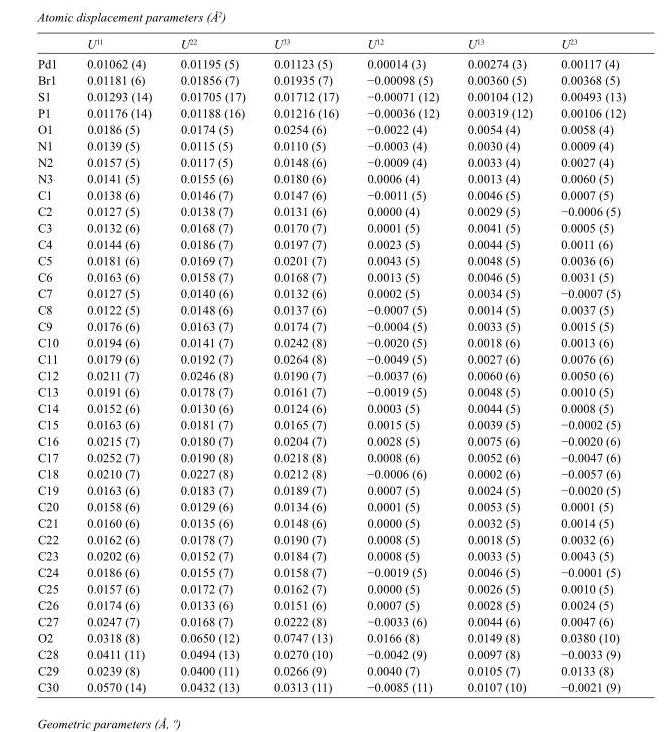table: (36, 36, 625, 693)
table column: (352, 36, 452, 693), (258, 36, 352, 693), (452, 36, 546, 693), (72, 36, 165, 693), (165, 36, 258, 693), (546, 36, 625, 693), (36, 36, 72, 693)
table column header: (36, 36, 625, 53)
table row: (36, 53, 625, 71), (36, 36, 625, 53), (36, 71, 625, 88), (36, 120, 625, 137), (36, 153, 625, 170), (36, 186, 625, 203), (36, 235, 625, 252), (36, 268, 625, 285), (36, 317, 625, 334), (36, 350, 625, 367), (36, 399, 625, 416), (36, 432, 625, 449), (36, 481, 625, 498), (36, 514, 625, 531), (36, 563, 625, 580), (36, 596, 625, 613), (36, 645, 625, 662), (36, 88, 625, 104), (36, 104, 625, 120), (36, 137, 625, 153), (36, 170, 625, 186), (36, 203, 625, 219), (36, 219, 625, 235), (36, 252, 625, 268), (36, 285, 625, 301), (36, 301, 625, 317), (36, 334, 625, 350), (36, 367, 625, 383), (36, 383, 625, 399), (36, 416, 625, 432), (36, 449, 625, 465), (36, 465, 625, 481), (36, 498, 625, 514), (36, 531, 625, 547), (36, 547, 625, 563), (36, 580, 625, 596), (36, 613, 625, 629), (36, 629, 625, 645), (36, 662, 625, 678), (36, 678, 625, 693)
